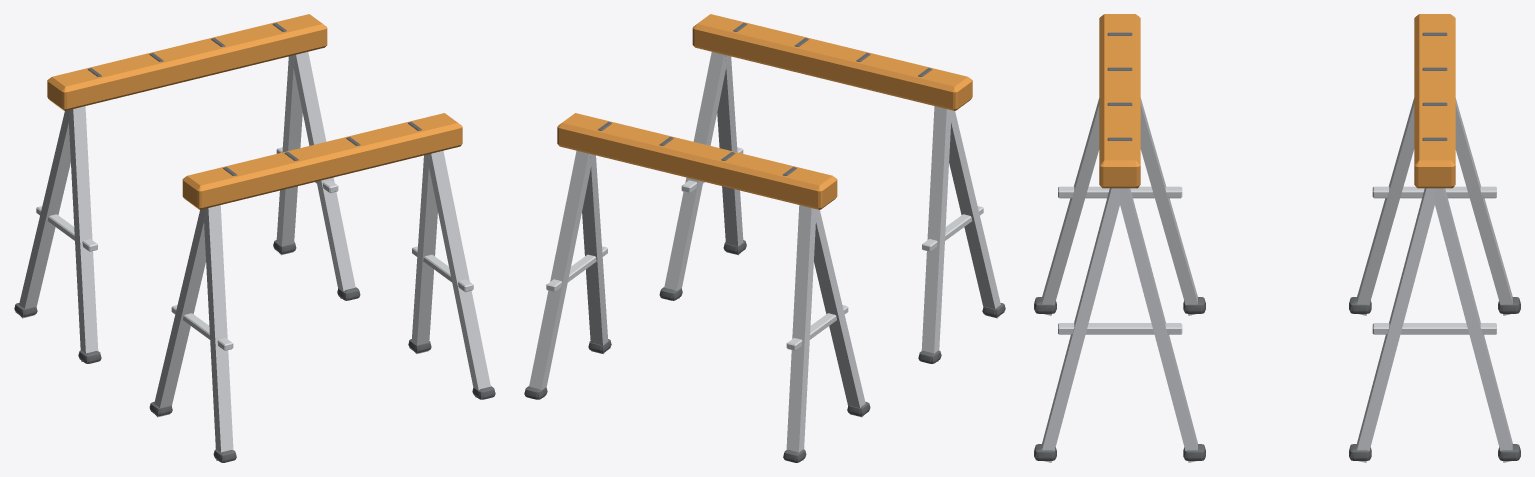
The picture shows the model from 3 angles, left to right: view 1: azimuth 30°, elevation 25°; view 2: azimuth 150°, elevation 25°; view 3: azimuth 270°, elevation 25°; orthographic projection. The views are drawn at different scales.
Visible parts, largest first — view 1: saw-horse-pair; view 2: saw-horse-pair; view 3: saw-horse-pair.
Part boxes in pixels (x1=…): saw-horse-pair: x1=14, y1=14, x2=495, y2=462; saw-horse-pair: x1=524, y1=14, x2=1005, y2=462; saw-horse-pair: x1=1034, y1=14, x2=1520, y2=462.
Bounding box in the file's own units: 0.895 × 0.7986 × 1.17.
